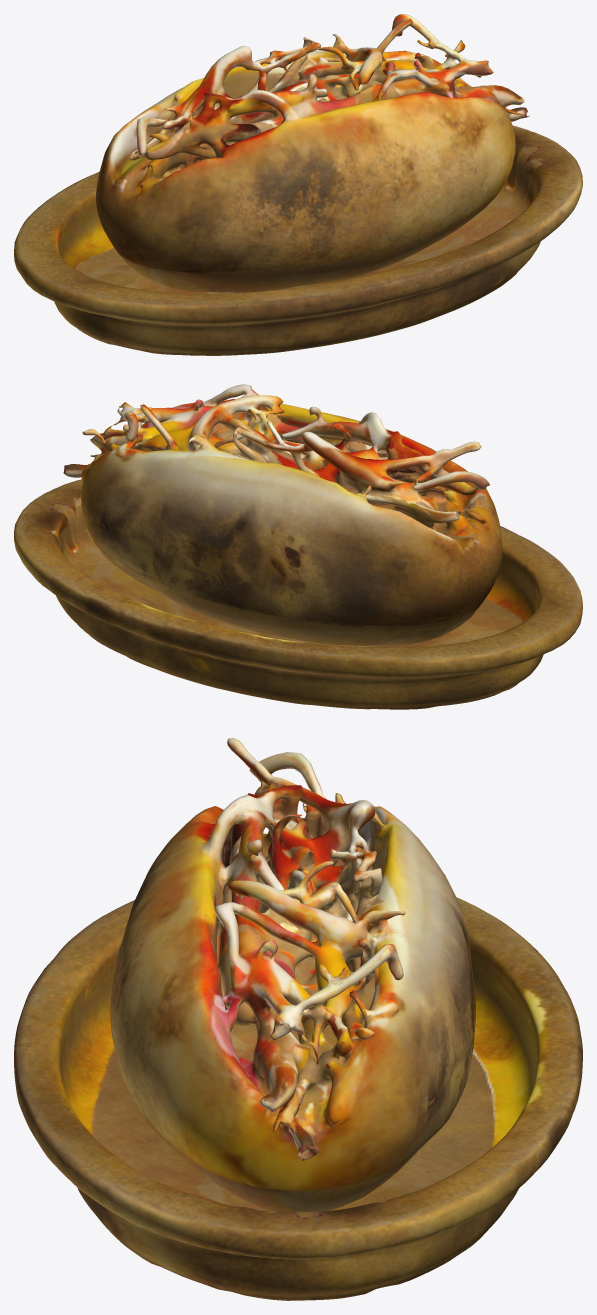
File: Kumpir.glb
3 renders of one model, top to bottom at view 1: azimuth 30°, elevation 25°; view 2: azimuth 150°, elevation 25°; view 3: azimuth 270°, elevation 25°, orthographic. The views are drawn at different scales.
Size of the model in its own units: 2 by 0.8051 by 1.29.
Materials: 1 (1 with a texture image).
